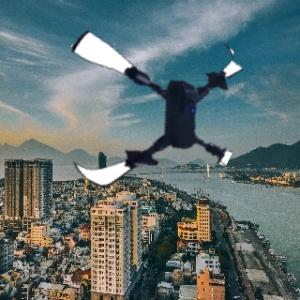drone: (53, 12, 246, 205)
